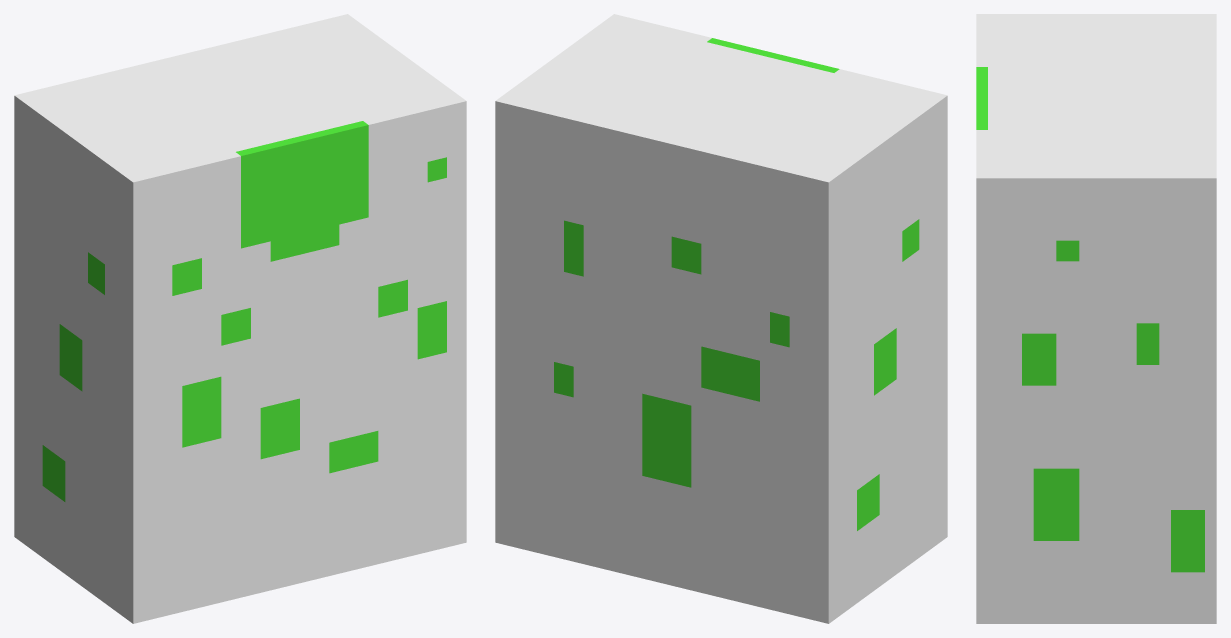
File: zombie1-1.obj
3 renders of one model, left to right at view 1: azimuth 30°, elevation 25°; view 2: azimuth 150°, elevation 25°; view 3: azimuth 270°, elevation 25°, orthographic.
Bounding box in the file's own units: 3.4 × 4.3 × 2.1.
1 material, 1 textured.
